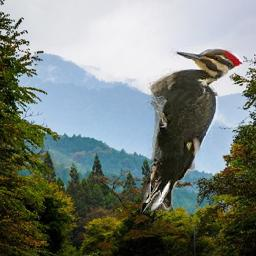Woodpecker: (139, 47, 243, 213)
